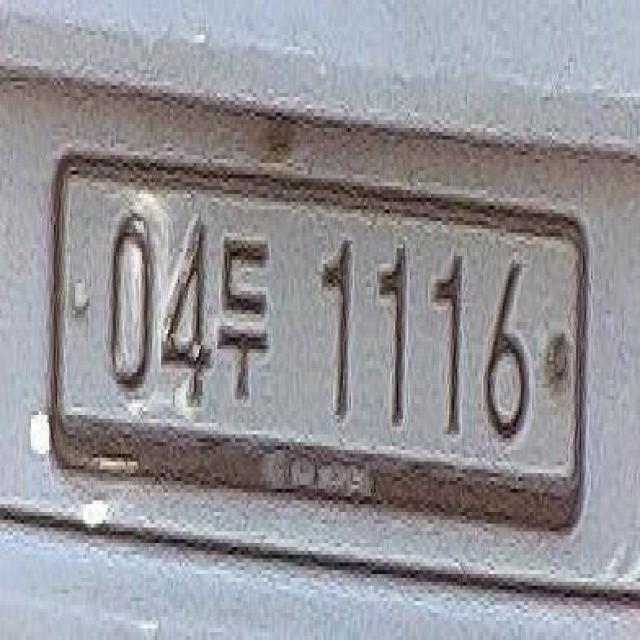illegal_plate: (56, 150, 600, 540)
